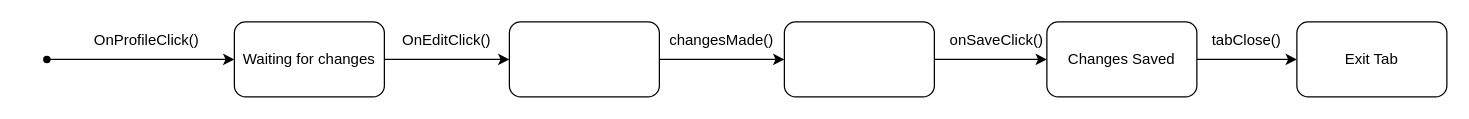
Some shapes in this 1469 by 119 pixel diagram are drawn without their labels. The centre of each missing label's shape, as x and y in pixels:
"Change Profile Settings" belongs at (583,59).
"Ready to save changes" belongs at (858,59).
